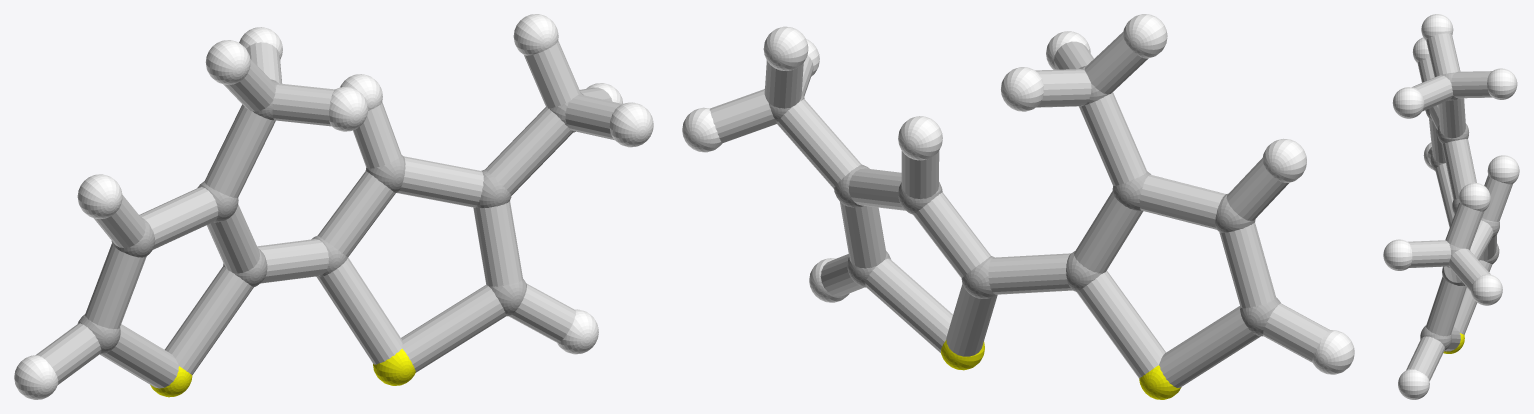
The model's file is Methylthiophene_Phi_30_Theta_160_Methylthiophene.glb.
3 views of the same model, side by side, from view 1: azimuth 30°, elevation 25°; view 2: azimuth 150°, elevation 25°; view 3: azimuth 270°, elevation 25° (orthographic). The views are drawn at different scales.
Visible parts, largest first — view 1: grp7965, grp3621, grp1, grp7241; view 2: grp7965, grp3621, grp1, grp7241; view 3: grp7965, grp3621, grp1.
Part boxes in pixels (bbox=[...]): grp7965: bbox=[35, 40, 622, 388]; grp3621: bbox=[14, 14, 653, 399]; grp1: bbox=[77, 79, 583, 354]; grp7241: bbox=[150, 348, 415, 397]; grp7965: bbox=[709, 31, 1329, 387]; grp3621: bbox=[682, 14, 1354, 374]; grp1: bbox=[764, 65, 1280, 336]; grp7241: bbox=[941, 340, 1181, 399]; grp7965: bbox=[1406, 33, 1512, 380]; grp3621: bbox=[1383, 14, 1519, 399]; grp1: bbox=[1420, 72, 1499, 350].
Bounding box in the file's own units: 9.79 × 5.74 × 2.56.
